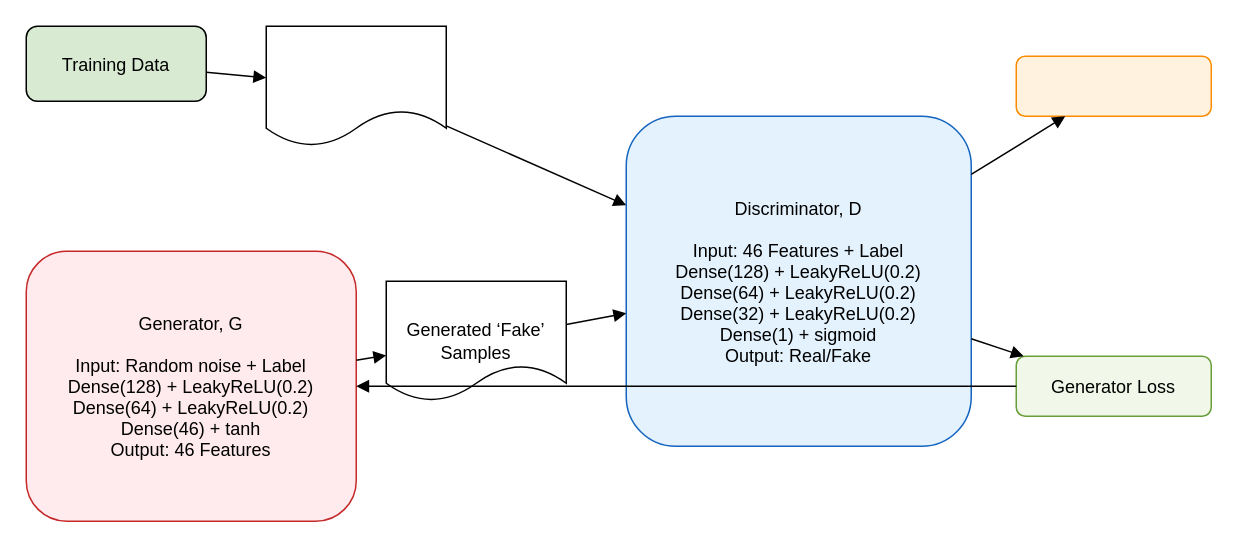
Image size: 1238x548. Some labels were removed from this diagram. The shapes that lost their labels are listed below. From the top down, each one's box as (x1, y1, x2, y2) in pixels, then its label:
(265, 25, 446, 146): ‘Real’ Samples
(1015, 55, 1211, 116): Discriminator Loss
